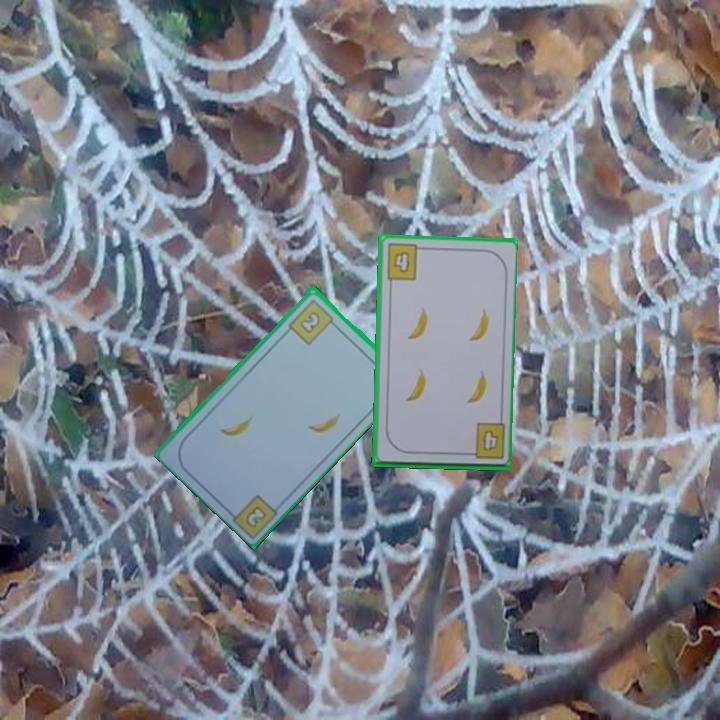2b: (285, 295, 340, 347), (242, 501, 270, 531)
4b: (462, 420, 507, 462), (383, 240, 426, 283)
